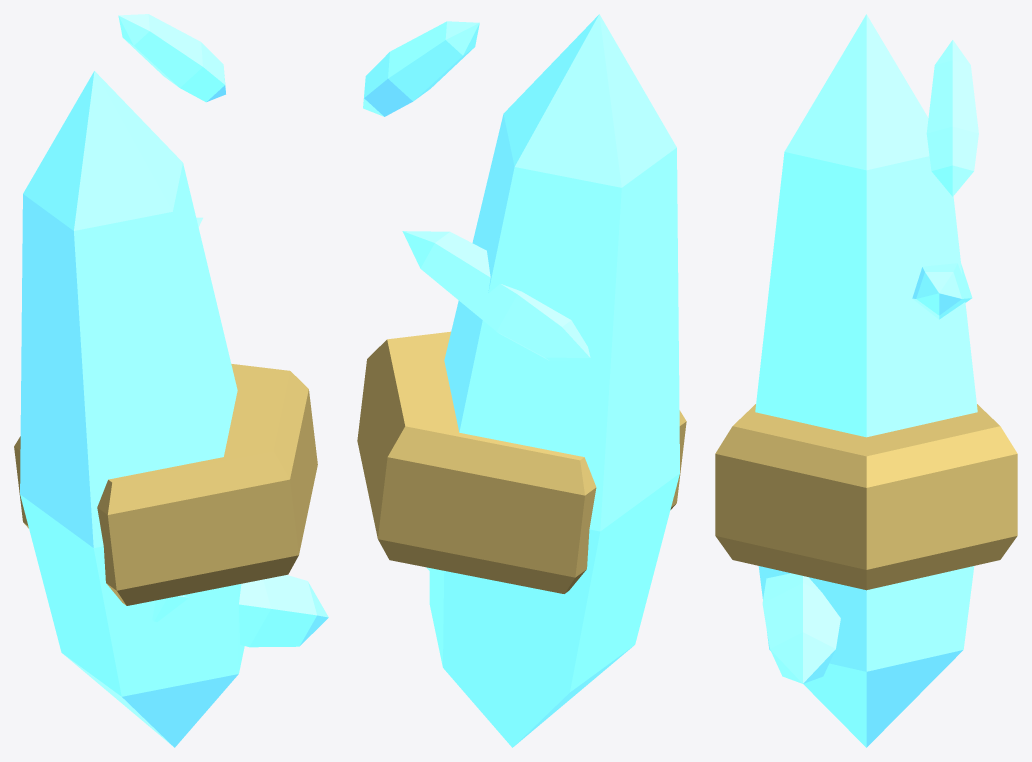
The model's file is pickups-and-collectibles-currency-shard-81b6b2bc__19867.glb.
3 renders of one model, left to right at view 1: azimuth 30°, elevation 25°; view 2: azimuth 150°, elevation 25°; view 3: azimuth 270°, elevation 25°, orthographic. The views are drawn at different scales.
Visible parts, largest first — view 1: body/gem, body/gold; view 2: body/gem, body/gold; view 3: body/gem, body/gold.
Part boxes in pixels (x1,y1,x2,y2): body/gem: (20,14,328,747); body/gold: (14,364,317,605); body/gem: (363,14,679,747); body/gold: (357,331,686,593); body/gem: (755,14,978,747); body/gold: (715,404,1017,590).
Size of the model in its own units: 0.1366 by 0.341 by 0.1331.
